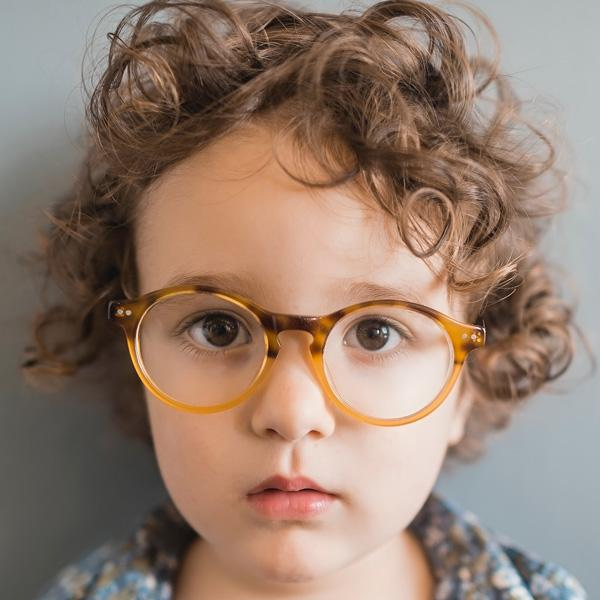Eyes: (168, 302, 259, 368), (335, 308, 419, 365)
